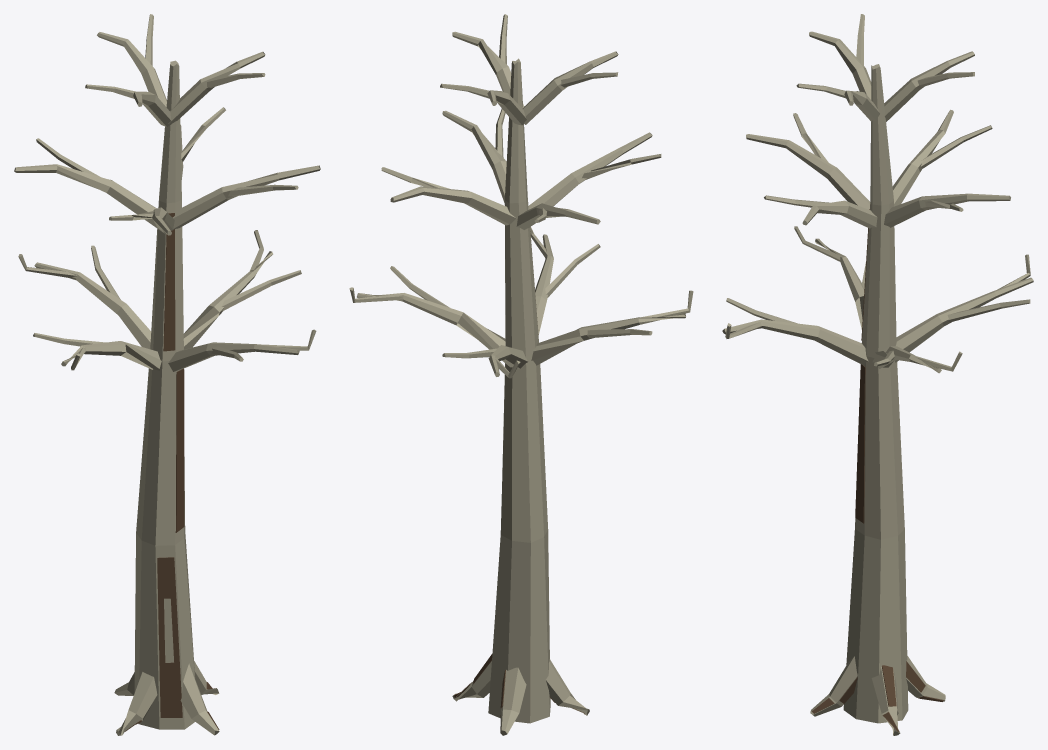
File: prop-tree-tropical-almond-dead.glb
3 renders of one model, left to right at view 1: azimuth 30°, elevation 25°; view 2: azimuth 150°, elevation 25°; view 3: azimuth 270°, elevation 25°, orthographic.
Visible parts, largest first — view 1: leafless_tree; view 2: leafless_tree; view 3: leafless_tree.
Part boxes in pixels (box(x1,y1,x2,y2)): leafless_tree: box(14, 14, 320, 735); leafless_tree: box(349, 14, 693, 735); leafless_tree: box(722, 14, 1033, 735).
Bounding box in the file's own units: 0.8164 × 1.89 × 0.8165.
